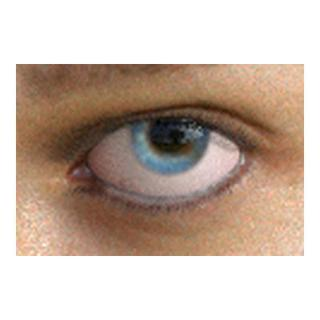pupil: (152, 116, 187, 151)
